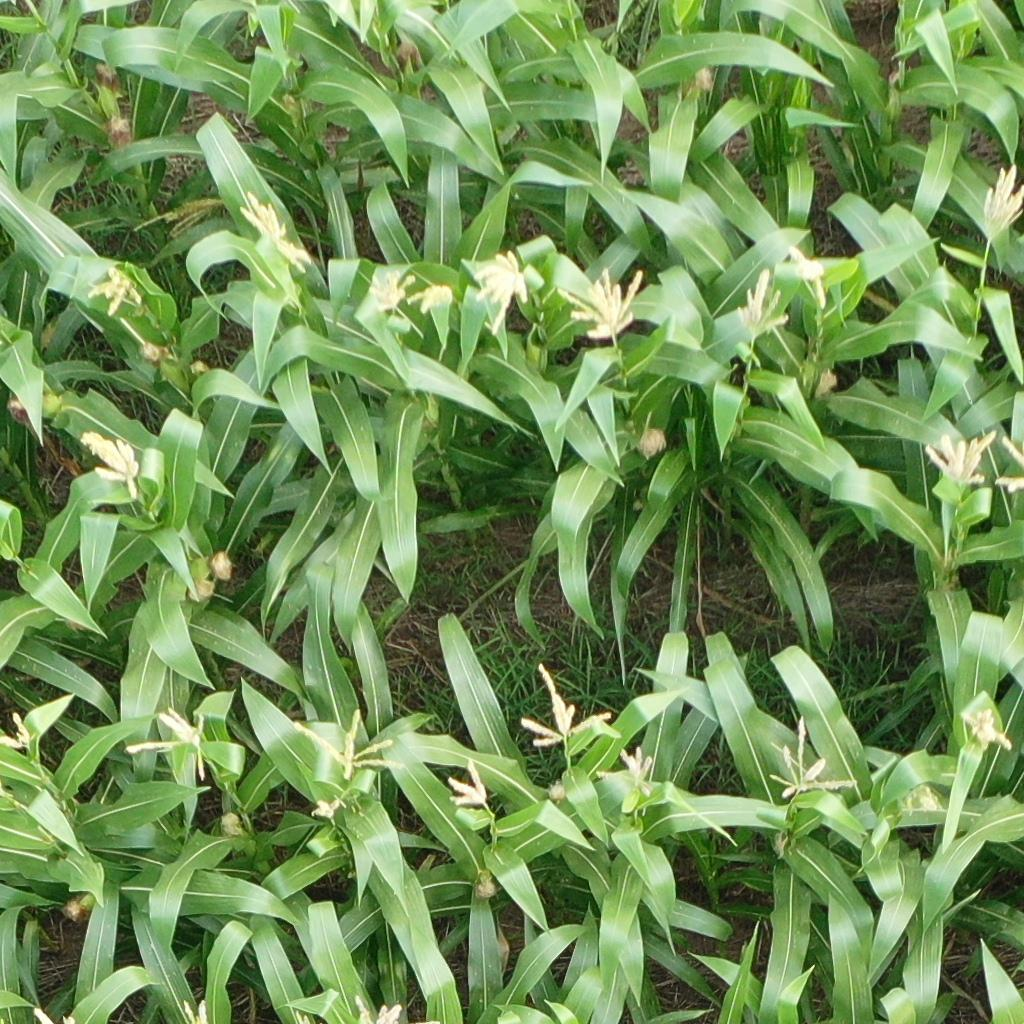Tassel: (292, 703, 414, 777), (517, 661, 614, 748), (766, 713, 860, 799), (553, 262, 649, 344), (236, 188, 319, 273), (122, 705, 212, 778), (468, 248, 533, 336), (80, 429, 148, 499), (920, 427, 999, 485), (738, 268, 790, 339), (597, 744, 658, 803), (775, 245, 833, 304), (978, 163, 1023, 239), (86, 266, 148, 320), (444, 758, 494, 812), (962, 702, 1015, 752), (368, 267, 415, 312), (404, 281, 457, 315), (351, 994, 408, 1024), (996, 433, 1024, 494), (1, 710, 38, 756), (902, 784, 948, 816), (29, 1004, 78, 1024), (309, 797, 346, 822), (180, 996, 211, 1024), (290, 1011, 311, 1024)
